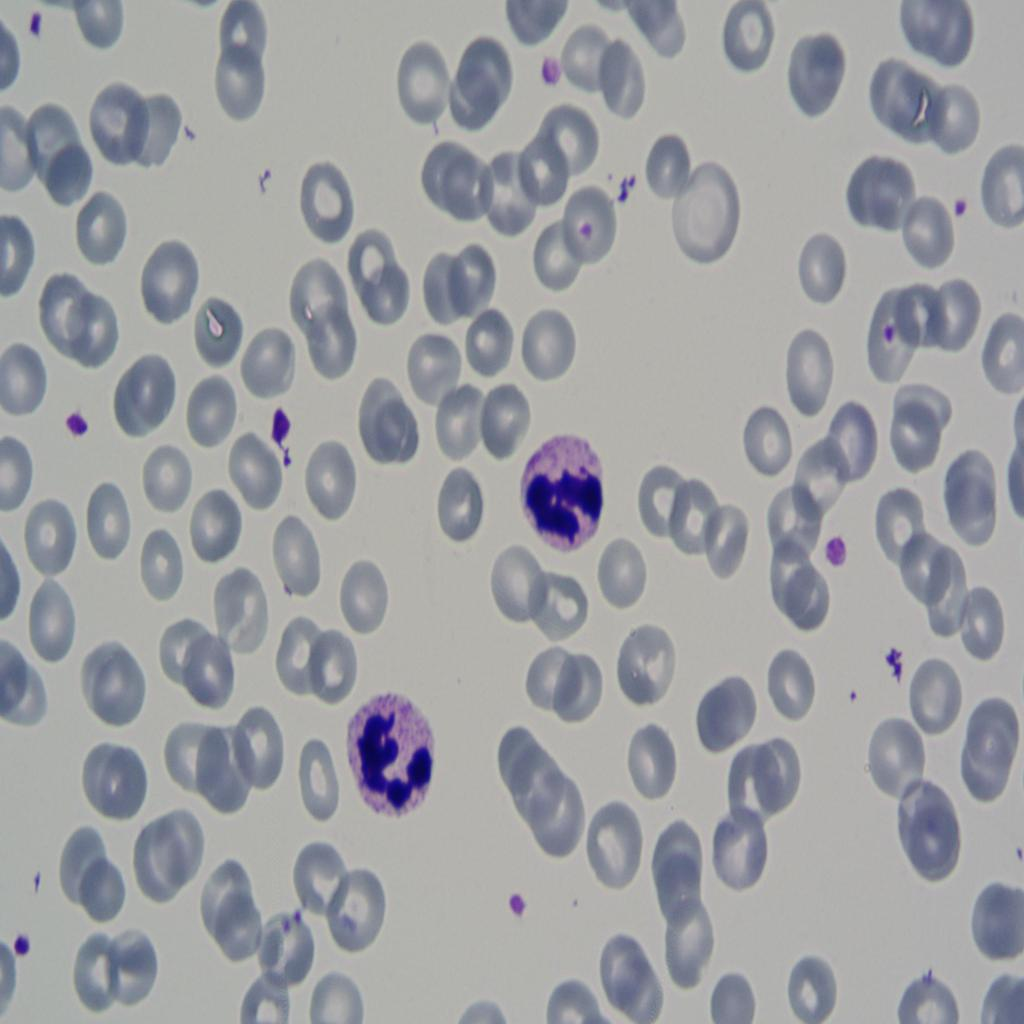Neutrofil: (509, 406, 608, 560), (346, 684, 437, 823)
Platelet: (820, 524, 860, 580), (493, 875, 530, 934), (256, 392, 290, 452), (55, 398, 90, 456), (940, 175, 971, 233), (538, 50, 568, 90), (28, 1, 52, 47), (8, 930, 36, 966), (882, 311, 904, 355)
